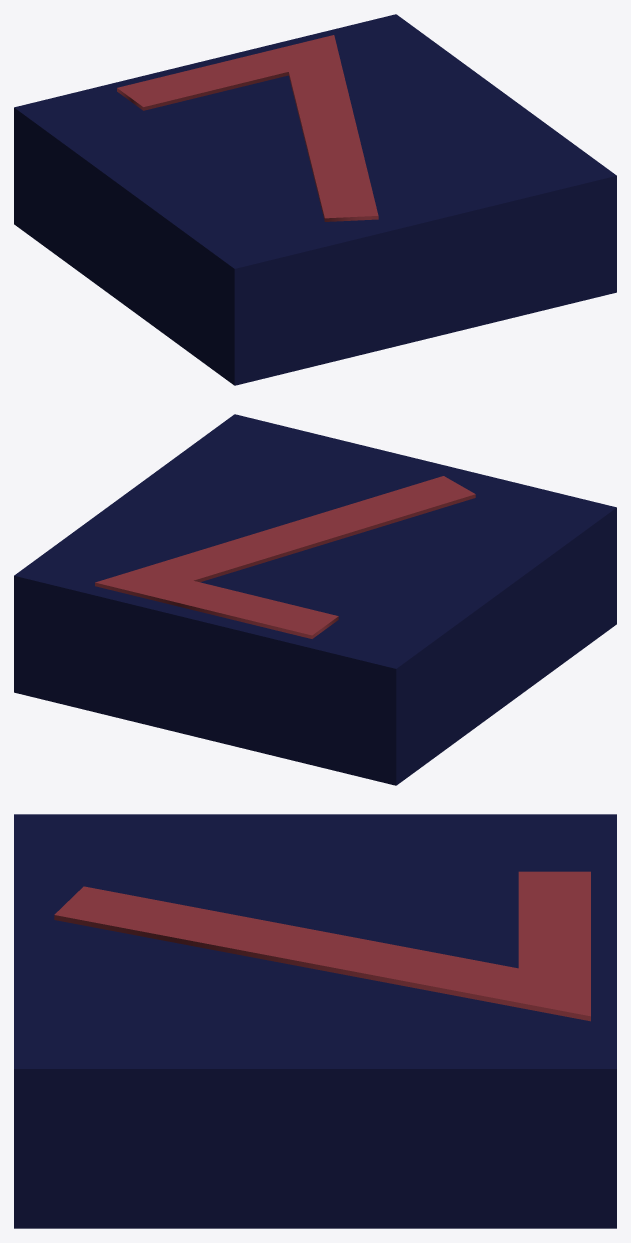
Rendered from seven-pad.fbx.
The picture shows the model from 3 angles, top to bottom: view 1: azimuth 30°, elevation 25°; view 2: azimuth 150°, elevation 25°; view 3: azimuth 270°, elevation 25°; orthographic projection. The views are drawn at different scales.
Visible parts, largest first — view 1: Cube, Text; view 2: Cube, Text; view 3: Cube, Text.
Boxes of the visible parts, left/top/right/bottom form: Cube: left=14, top=14, right=616, bottom=385; Text: left=117, top=35, right=378, bottom=221; Cube: left=14, top=414, right=616, bottom=785; Text: left=95, top=476, right=475, bottom=638; Cube: left=14, top=814, right=616, bottom=1228; Text: left=54, top=871, right=590, bottom=1021.
Bounding box in the file's own units: 200 × 60.26 × 200.
